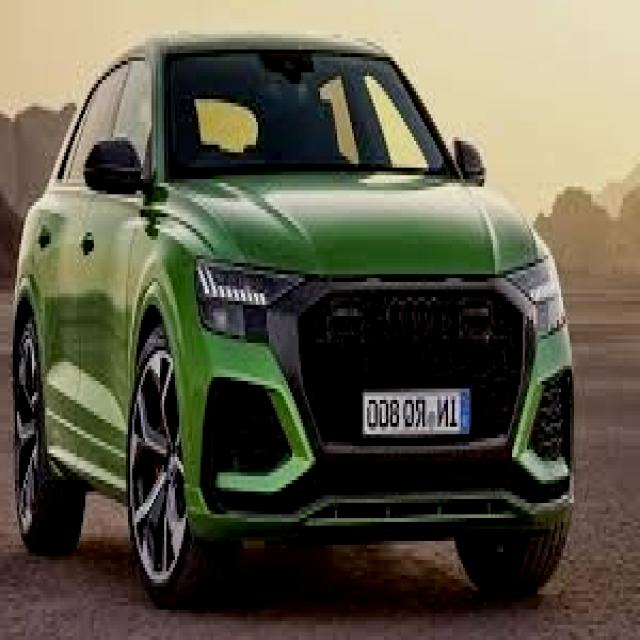green: (16, 41, 582, 604)
